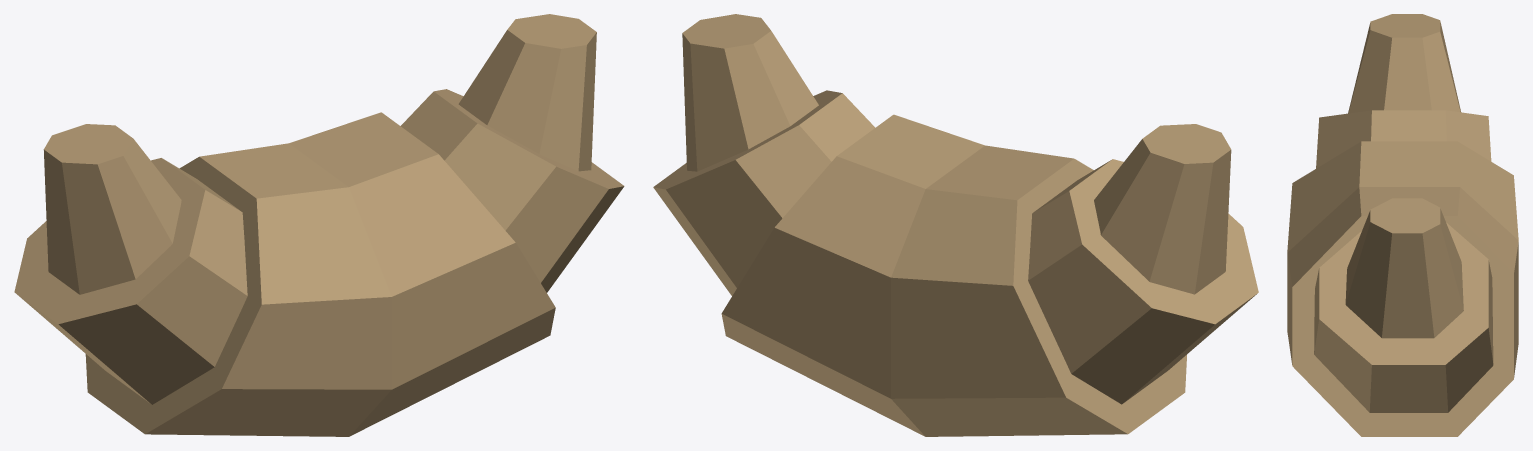
Rendered from Croissant.fbx.
The picture shows the model from 3 angles, left to right: view 1: azimuth 30°, elevation 25°; view 2: azimuth 150°, elevation 25°; view 3: azimuth 270°, elevation 25°; orthographic projection. The views are drawn at different scales.
Parts seen in each view (by area): view 1: Croissant.003, Croissant.004, Croissant.002, Croissant.001, Croissant.005, Croissant; view 2: Croissant.003, Croissant.004, Croissant.002, Croissant.001, Croissant.005, Croissant; view 3: Croissant.004, Croissant.005, Croissant, Croissant.003, Croissant.001, Croissant.002.
Part boxes in pixels (bbox=[...]): Croissant.003: bbox=[85, 143, 391, 436]; Croissant.004: bbox=[289, 112, 555, 436]; Croissant.002: bbox=[14, 158, 247, 404]; Croissant.001: bbox=[43, 124, 181, 294]; Croissant.005: bbox=[400, 89, 624, 292]; Croissant: bbox=[458, 14, 596, 171]; Croissant.003: bbox=[891, 145, 1186, 436]; Croissant.004: bbox=[721, 114, 984, 436]; Croissant.002: bbox=[1028, 159, 1258, 404]; Croissant.001: bbox=[1094, 124, 1231, 294]; Croissant.005: bbox=[653, 90, 875, 295]; Croissant: bbox=[682, 14, 818, 171]; Croissant.004: bbox=[1287, 187, 1518, 436]; Croissant.005: bbox=[1314, 222, 1493, 412]; Croissant: bbox=[1345, 198, 1463, 338]; Croissant.003: bbox=[1287, 141, 1518, 252]; Croissant.001: bbox=[1348, 14, 1460, 113]; Croissant.002: bbox=[1316, 110, 1491, 168].
Bounding box in the file's own units: 130 × 73.05 × 54.98.
